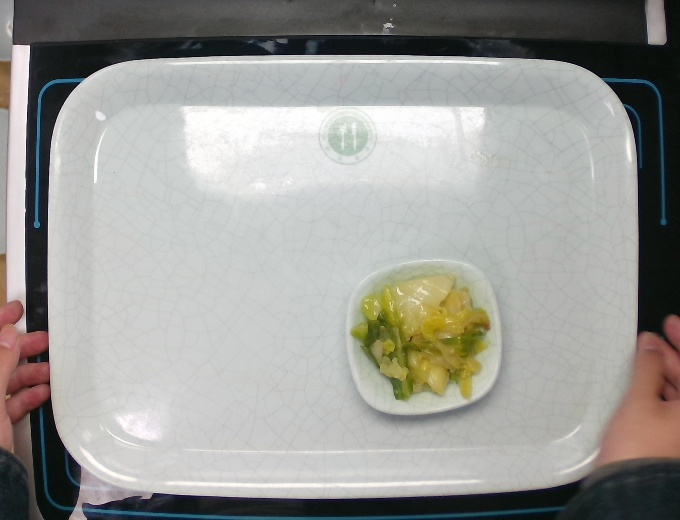JYsf-Si_Fang_Die: (342, 256, 505, 418)
